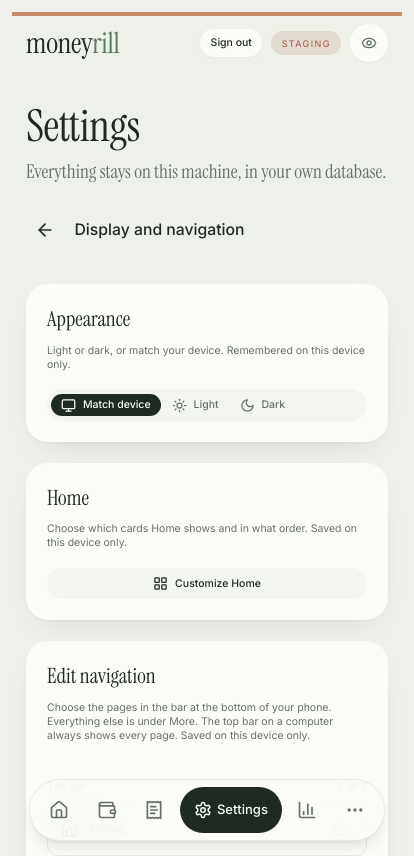
Test case: Edit navigation › always has a More, because only four pages fit beside Home
Click the button named "More" at (355, 810), box top-left (333, 787), bottom-right (377, 833)
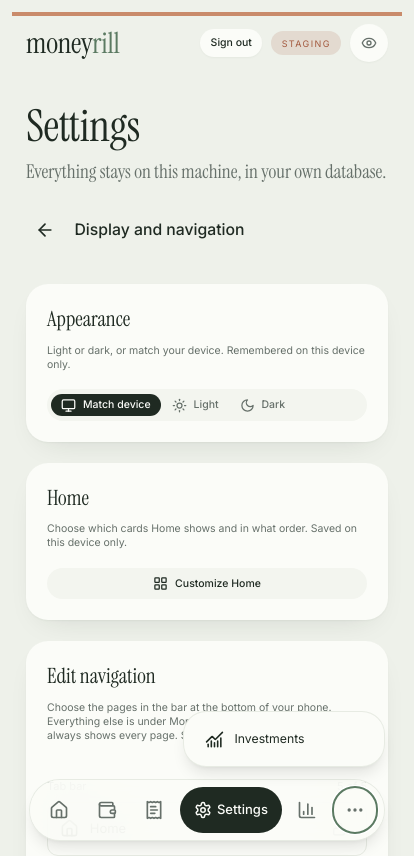
Check: the menu items read "Investments", in this order, box top-left (205, 730), bottom-right (305, 748)
